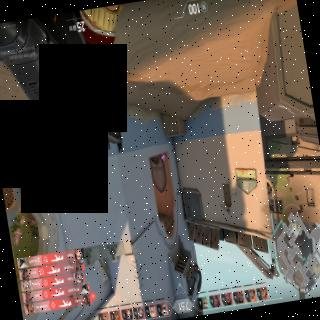ENEMY-BODY: (160, 152, 167, 164)
ENEMY-HEAD: (163, 158, 165, 163)
